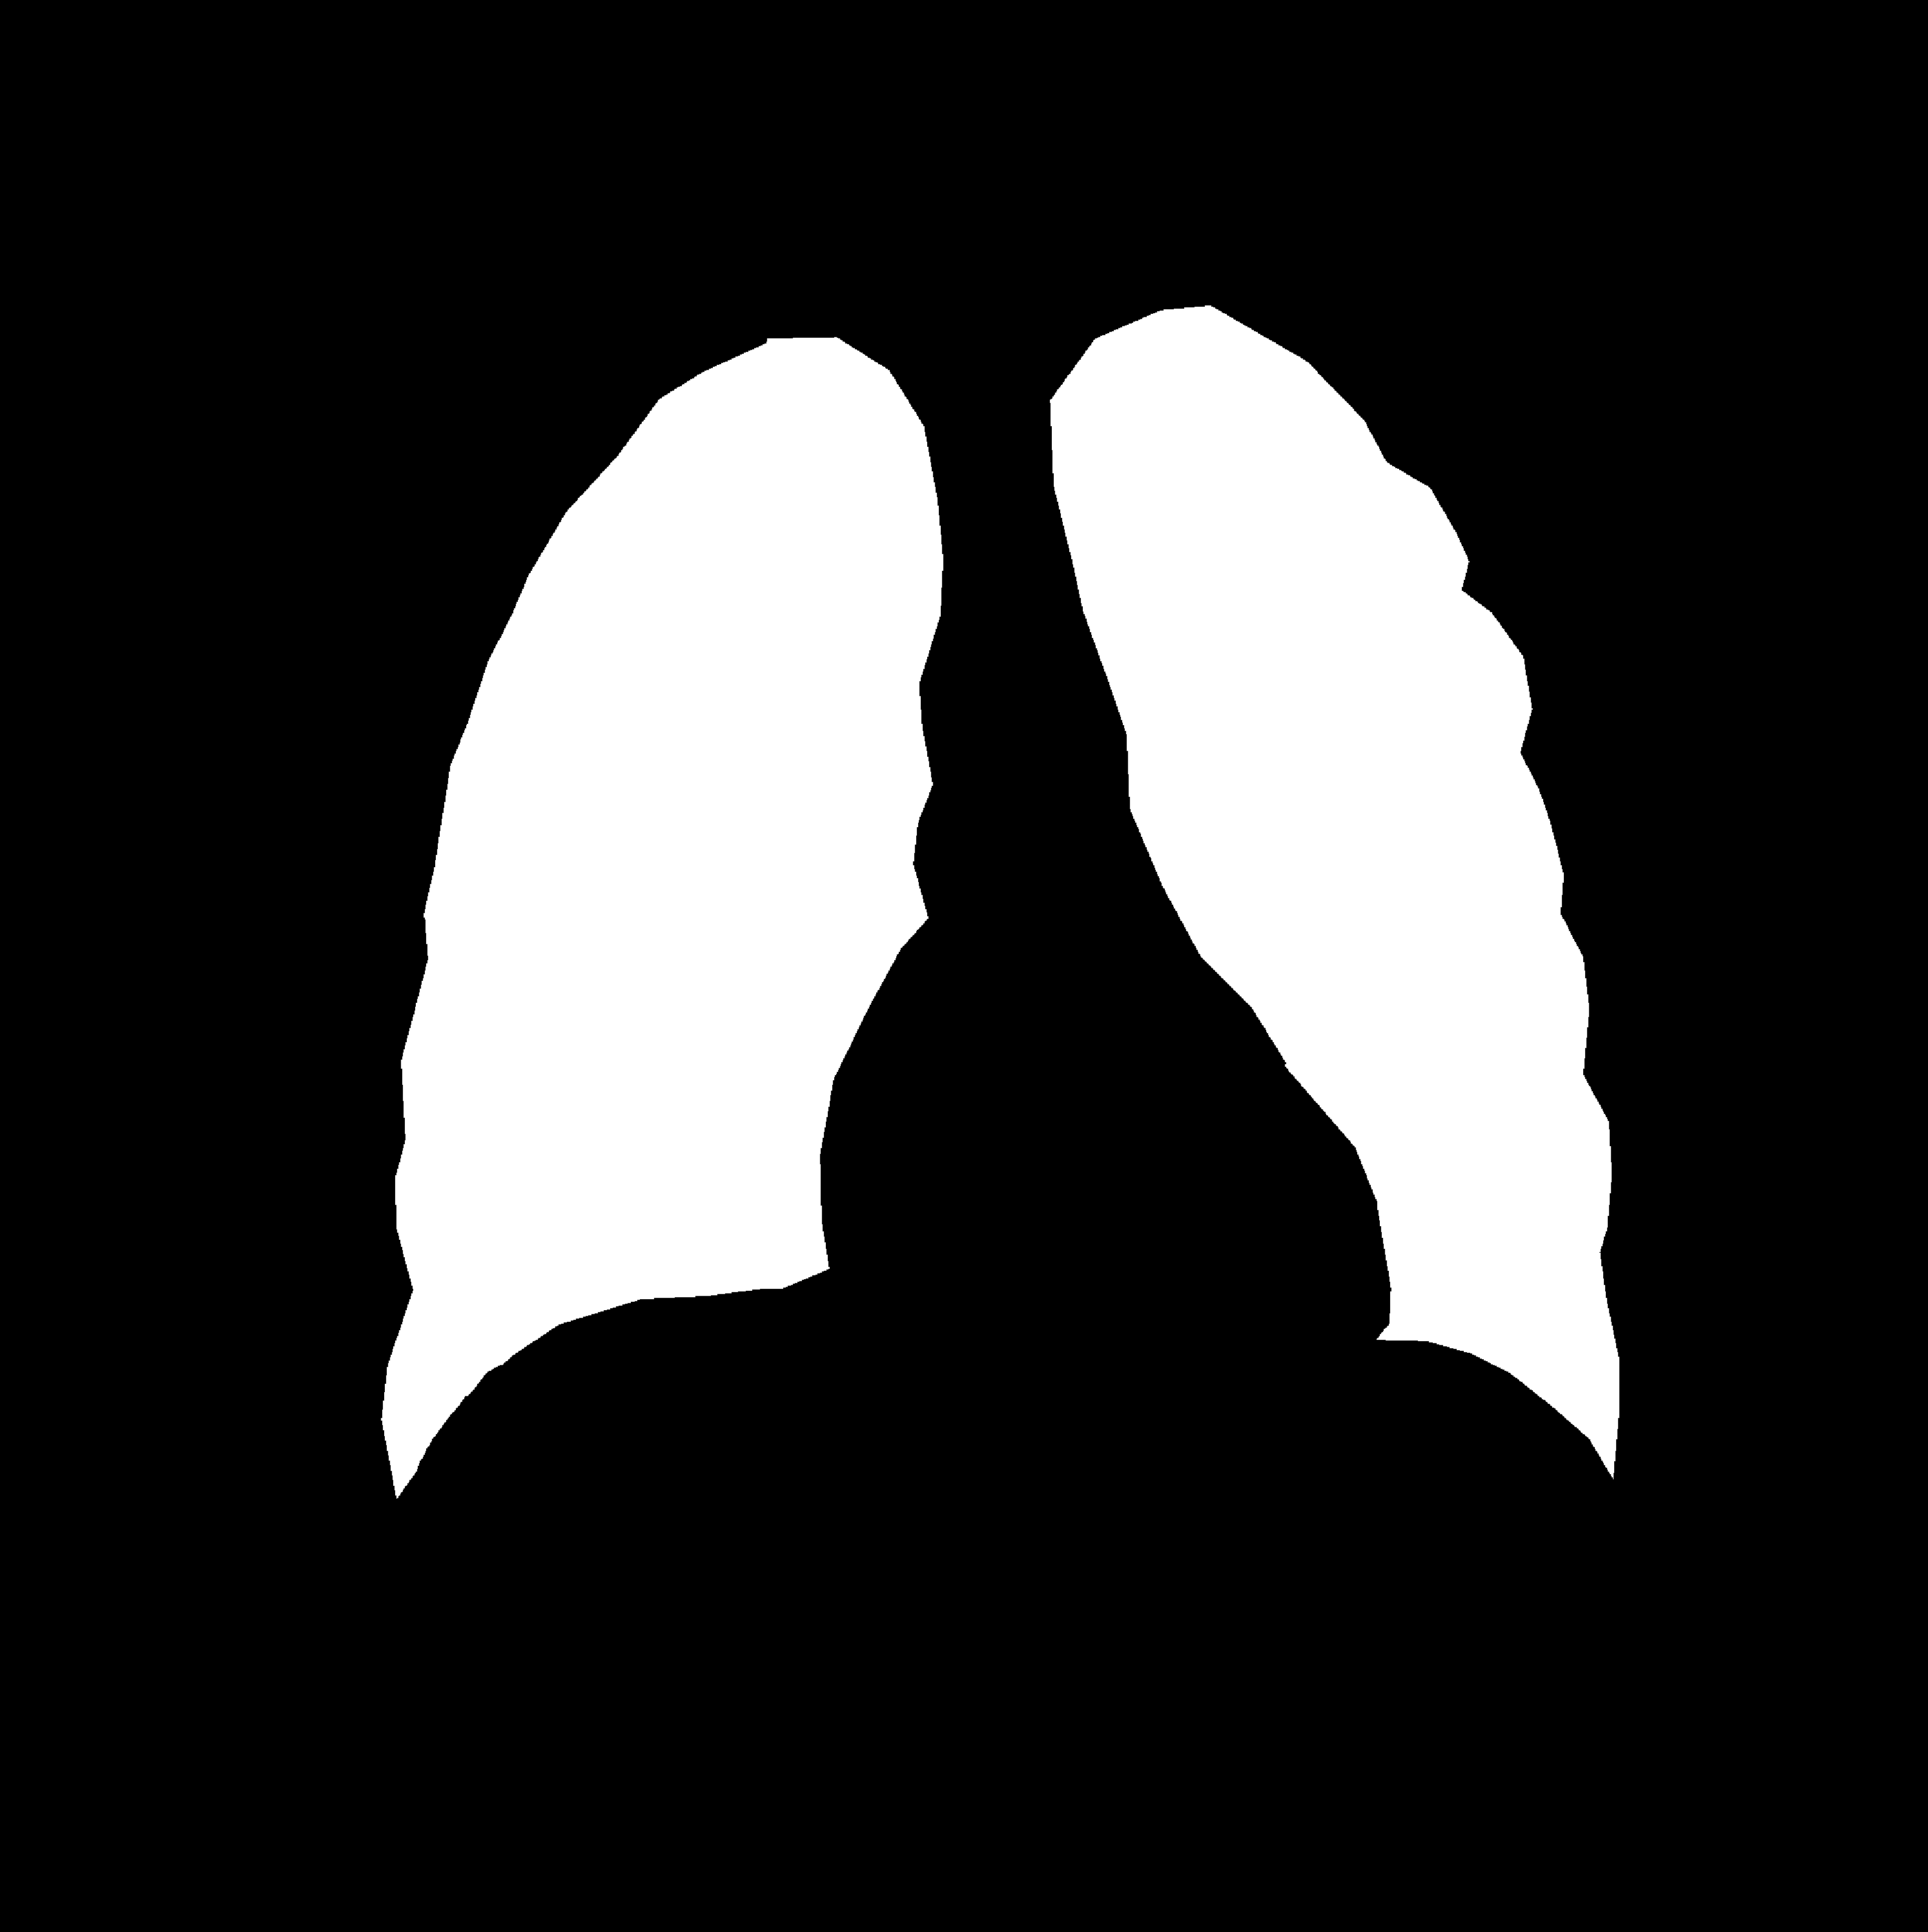heart: (819, 977, 1391, 1415)
left_lung: (387, 337, 943, 1499)
right_lung: (1051, 306, 1619, 1478)
